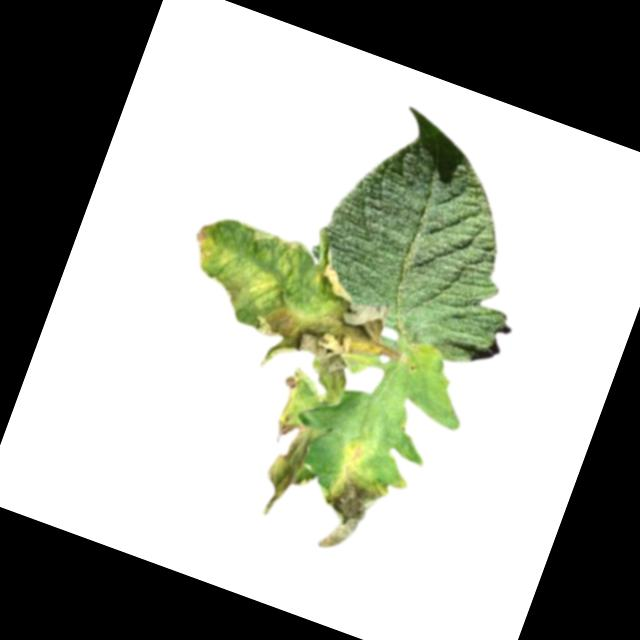Late_blight: (240, 269, 407, 418), (245, 408, 331, 527), (307, 459, 397, 563), (215, 267, 259, 317), (275, 365, 314, 414), (187, 219, 225, 268)
